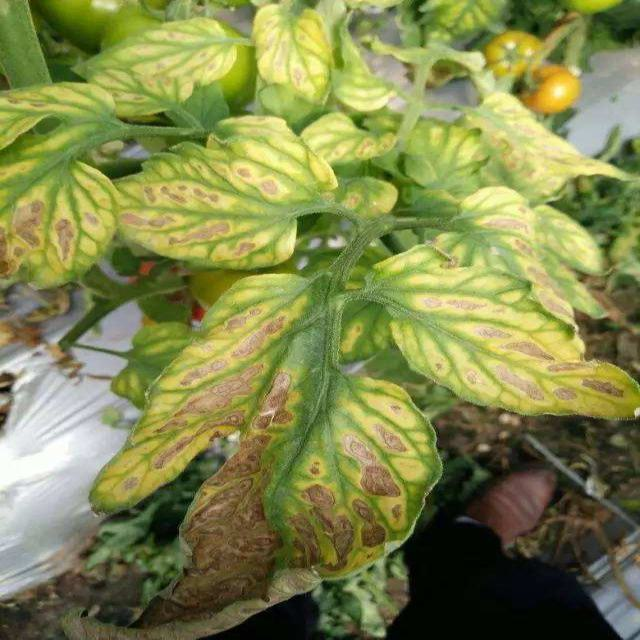Early_blight: (60, 363, 356, 640), (483, 100, 611, 193), (252, 6, 332, 93), (499, 235, 582, 317), (185, 297, 288, 357), (342, 434, 401, 497), (1, 197, 43, 282), (142, 181, 224, 209), (495, 362, 545, 403), (166, 219, 234, 244), (354, 500, 386, 548), (419, 294, 491, 315), (239, 162, 284, 195), (173, 359, 225, 385), (114, 209, 177, 230), (52, 212, 75, 268), (499, 341, 556, 363), (579, 376, 627, 399), (481, 215, 530, 236), (378, 421, 409, 452), (550, 357, 600, 375), (467, 322, 513, 340), (462, 359, 482, 387), (555, 383, 576, 403), (235, 238, 258, 256), (84, 206, 101, 227)
